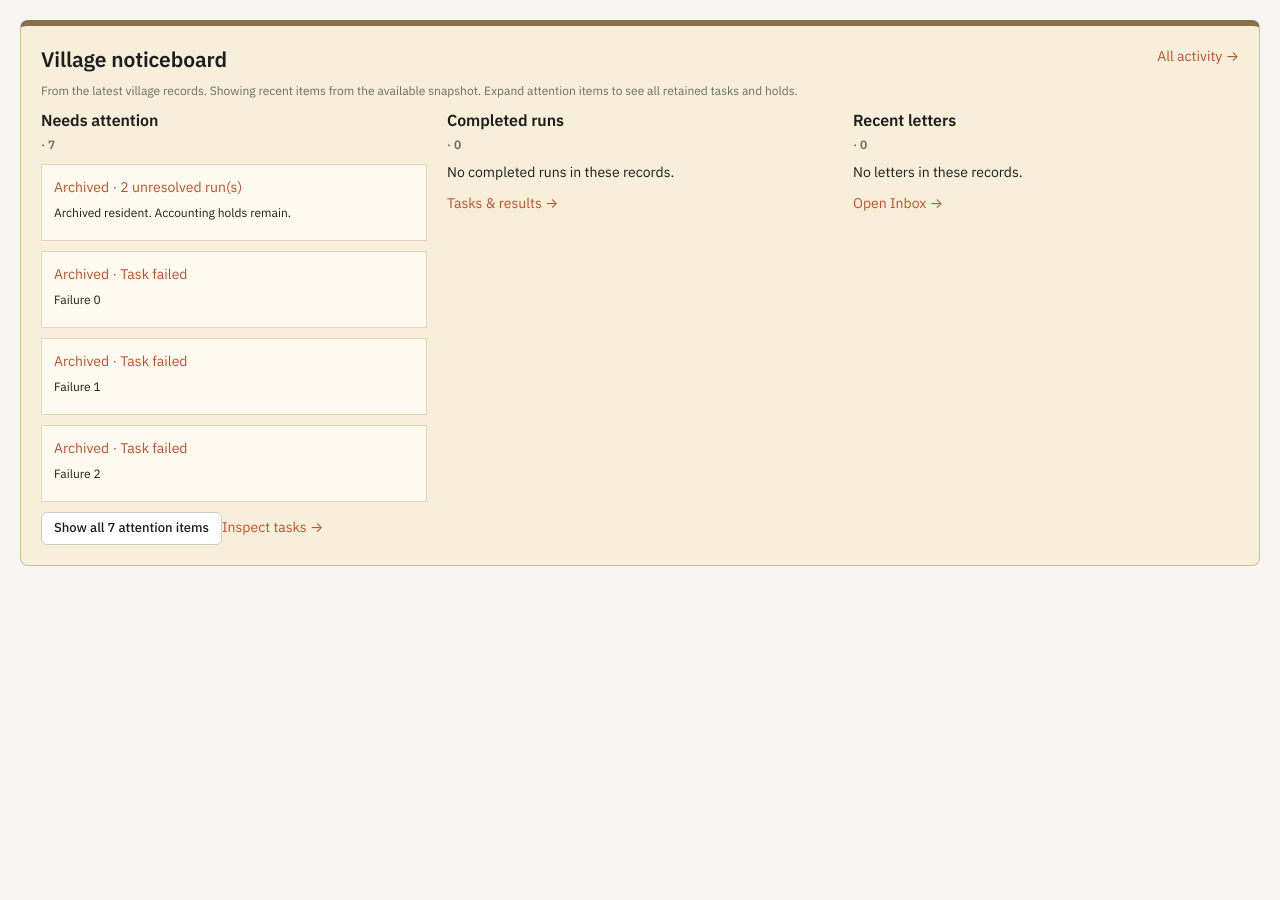
Test: prioritizes unresolved holds and exposes attention items beyond the four-card limit
Expected: the number of list items is 4, [41,164,427,241]; [41,251,427,328]; [41,338,427,415]; [41,425,427,502]
Expected: the 1st list item shows "2 unresolved run(s)", [41,164,427,241]
Click the button "Show all 7 attention items".
click(132, 529)  # box [41,512,222,545]
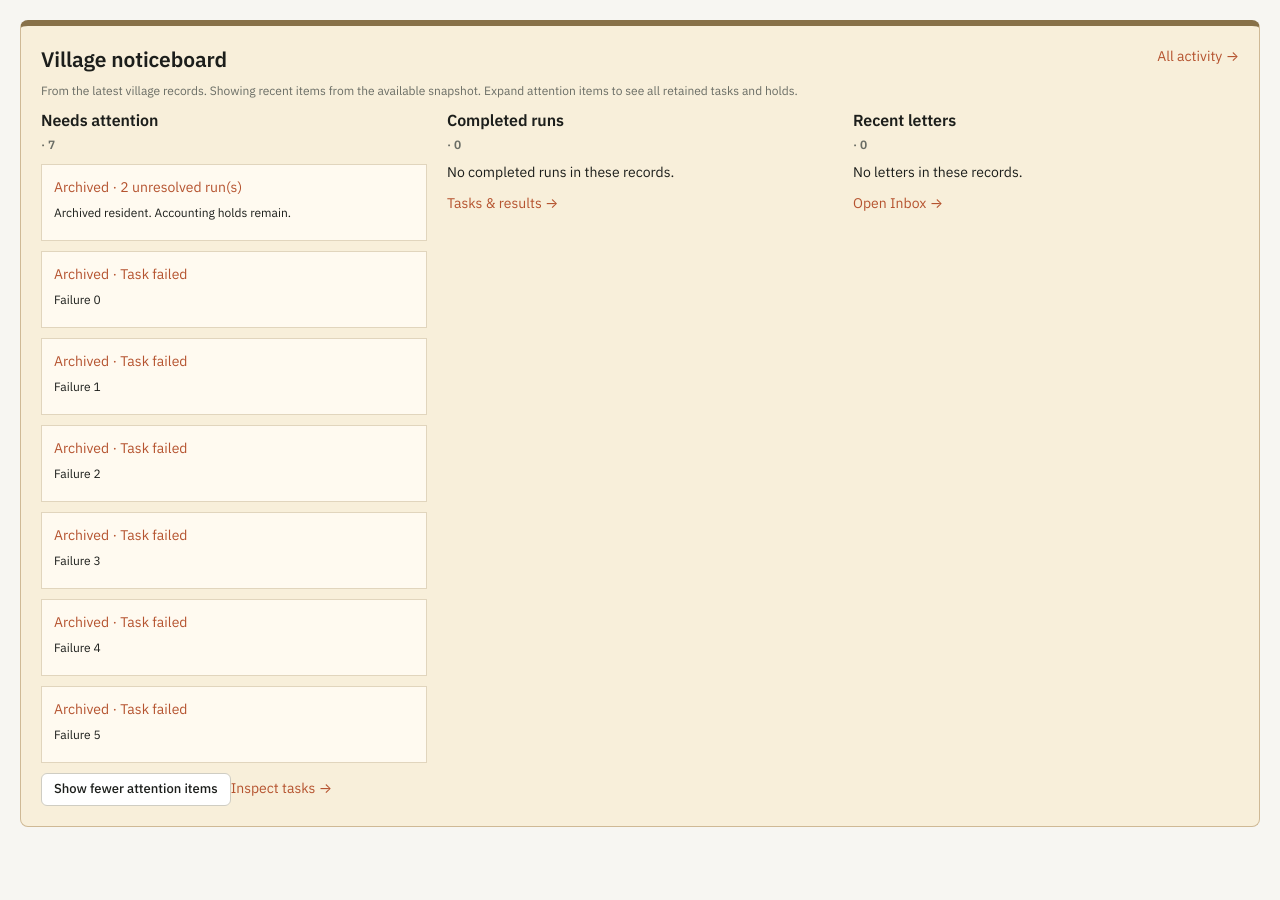
Expected: the number of list items is 7
Expected: the text "Failure 5" is shown, [54,727,101,742]
